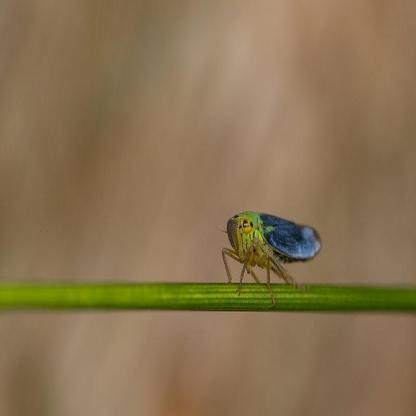Green-Leafhopper: (218, 209, 327, 291)
